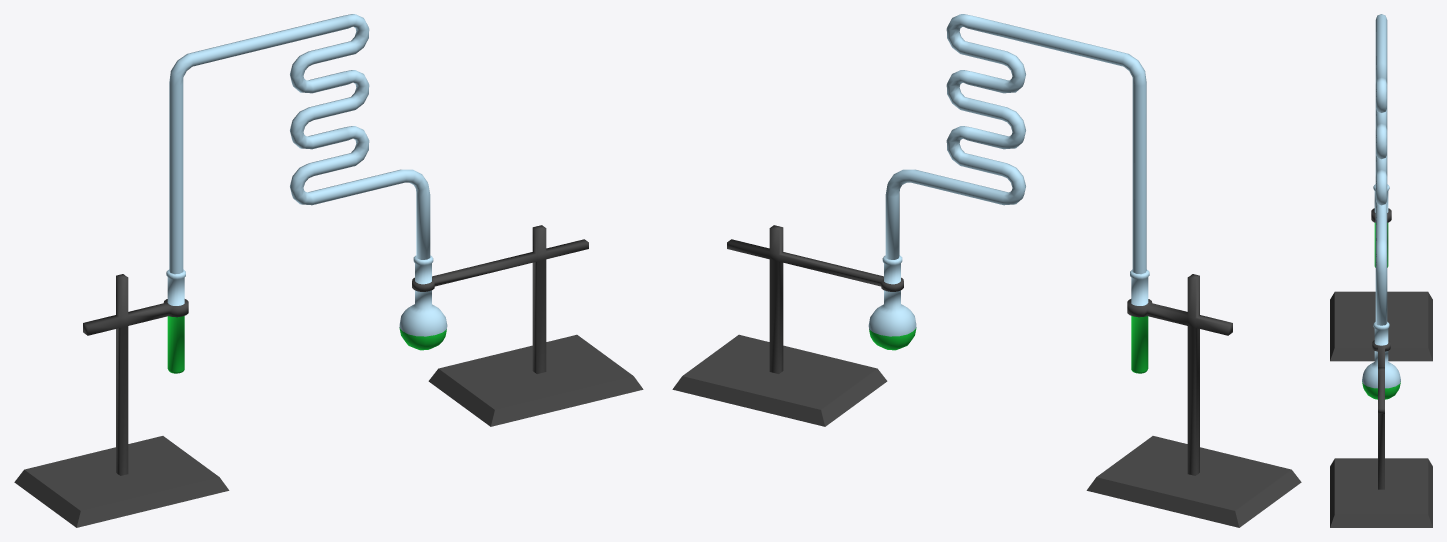
The model's file is Liquid EXP.fbx.
3 renders of one model, left to right at view 1: azimuth 30°, elevation 25°; view 2: azimuth 150°, elevation 25°; view 3: azimuth 270°, elevation 25°, orthographic. The views are drawn at different scales.
Visible parts, largest first — view 1: Liquid EXP; view 2: Liquid EXP; view 3: Liquid EXP.
Part boxes in pixels (x1,y1,x2,y2): Liquid EXP: (14,14,643,527); Liquid EXP: (672,14,1301,527); Liquid EXP: (1330,14,1432,527).
Bounding box in the file's own units: 185 × 129 × 35.18.
